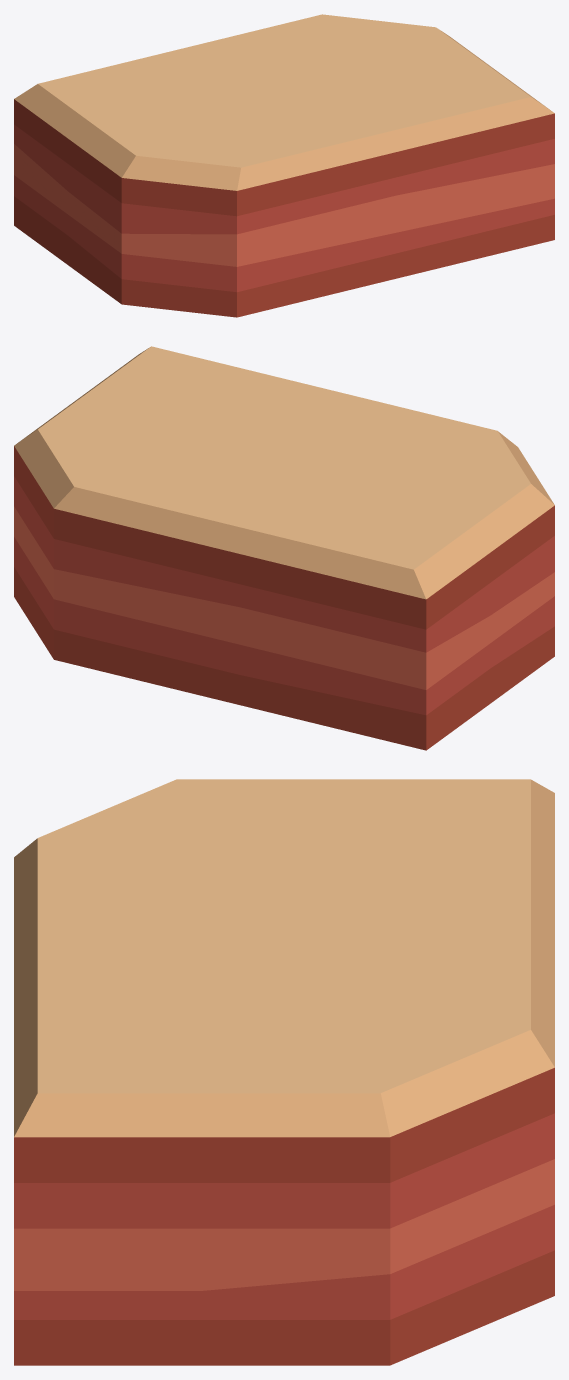
Rendered from StoneWall015.fbx.
3 views of the same model, one above another, from view 1: azimuth 30°, elevation 25°; view 2: azimuth 150°, elevation 25°; view 3: azimuth 270°, elevation 25° (orthographic). The views are drawn at different scales.
Parts seen in each view (by area): view 1: StoneWall015; view 2: StoneWall015; view 3: StoneWall015.
Boxes of the visible parts, <box> form: StoneWall015: <box>14,14,554,317</box>; StoneWall015: <box>14,346,554,750</box>; StoneWall015: <box>14,779,554,1365</box>.
Size of the model in its own units: 533 by 186 by 354.
